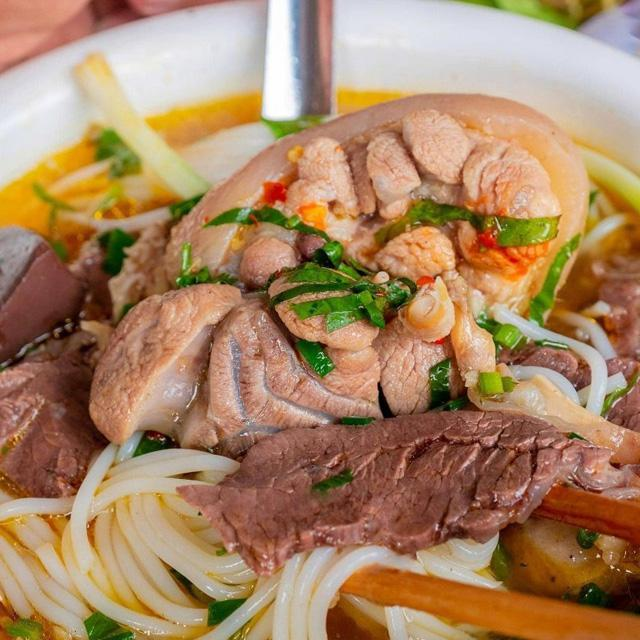bun: (0, 427, 527, 640), (483, 284, 629, 424)
bun bo: (0, 43, 640, 640)
thit bo: (171, 401, 632, 586), (236, 104, 563, 336), (84, 280, 472, 441), (0, 312, 141, 510), (500, 331, 640, 457), (585, 233, 640, 377)
